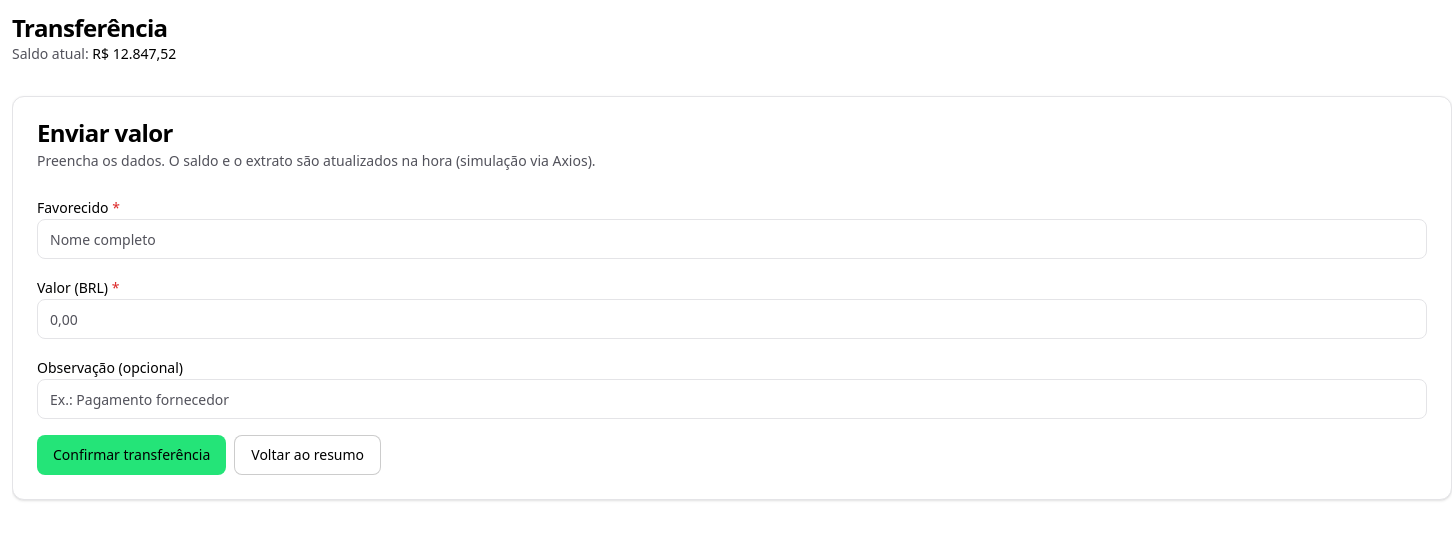
it: TransferPage › rejeita valor acima do saldo disponível
The image size is (1452, 546).
Type "Fornecedor SA" into the field labelled "Favorecido *" at {"x": 732, "y": 239}, box [37,219,1427,259]
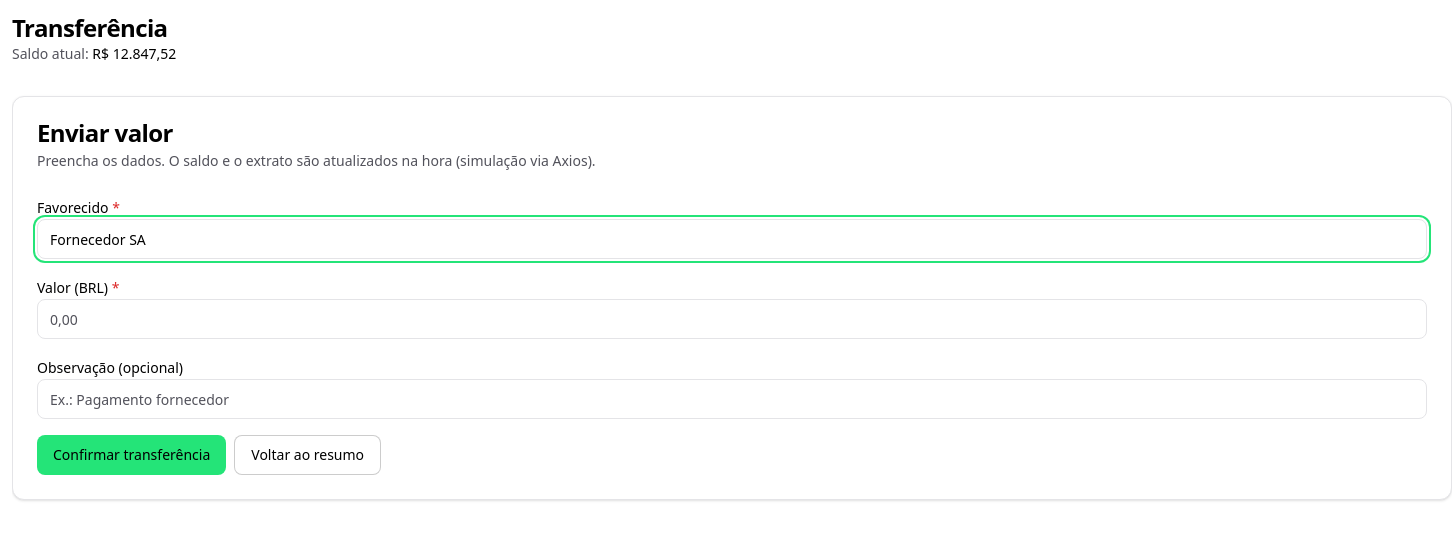
Type "1284753" into the field labelled "Valor (BRL) *" at {"x": 732, "y": 319}, box [37,299,1427,339]
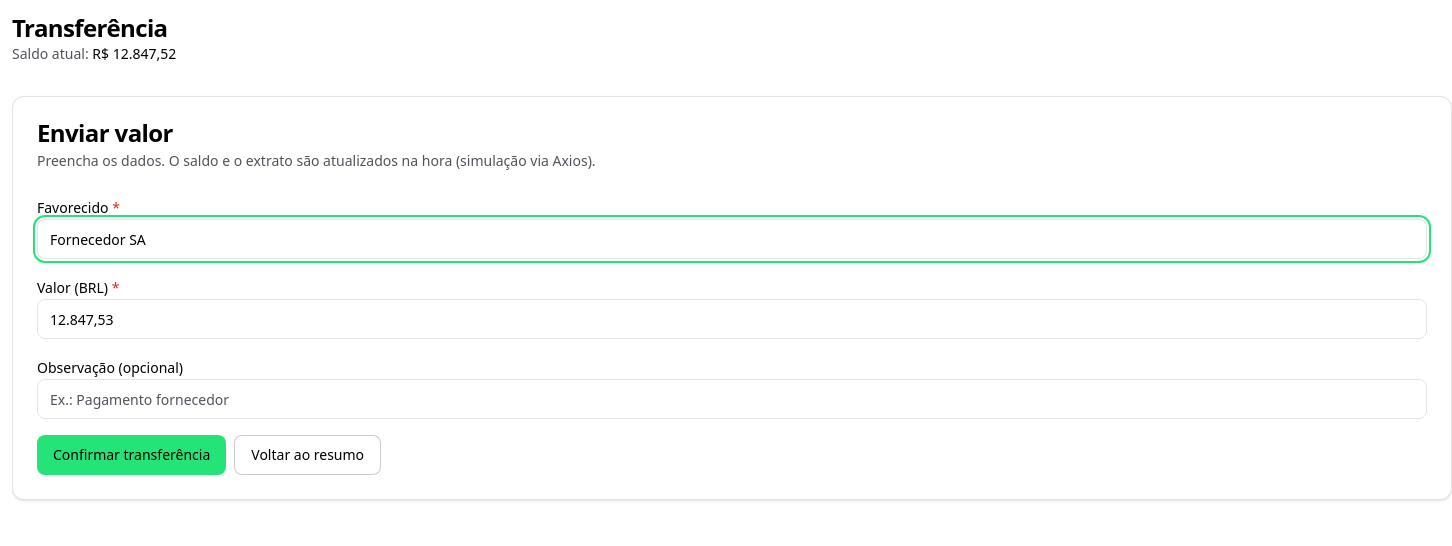
Click the button "Confirmar transferência" at {"x": 132, "y": 455}, box [37,435,226,475]
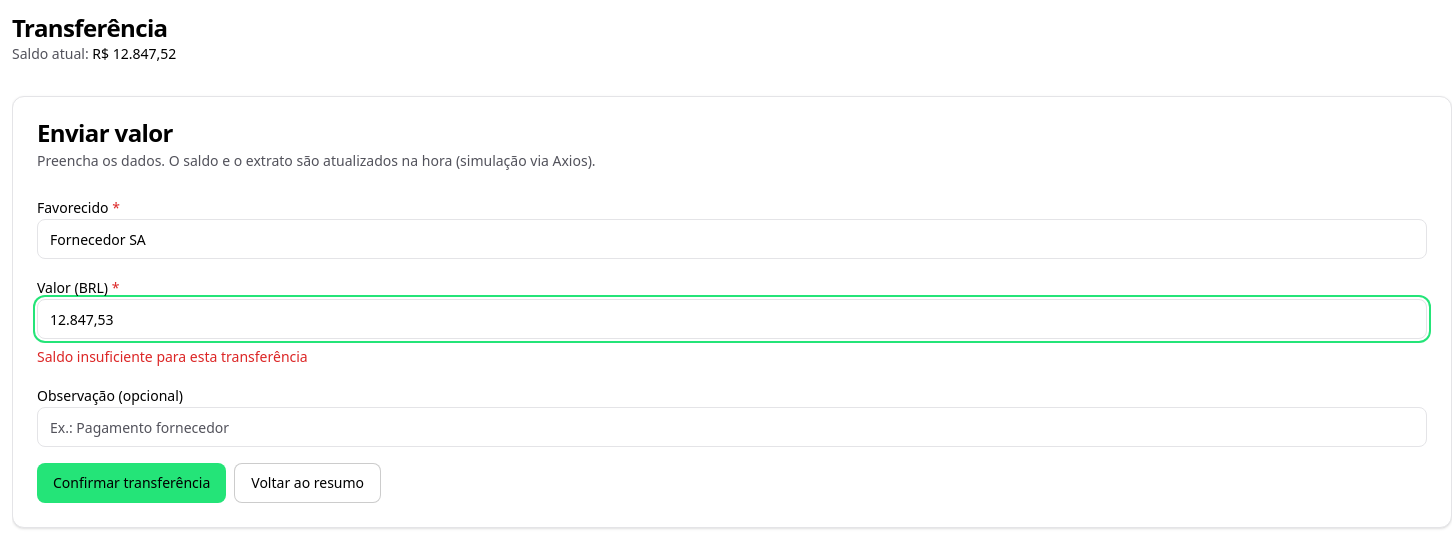
Expected: the text "Saldo insuficiente para esta transferência" is shown, [37,347,308,366]
